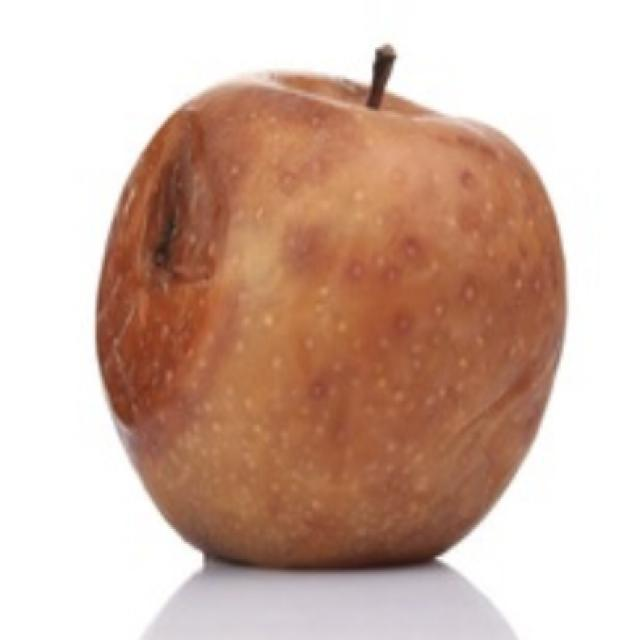Rotten: (120, 69, 555, 564)
